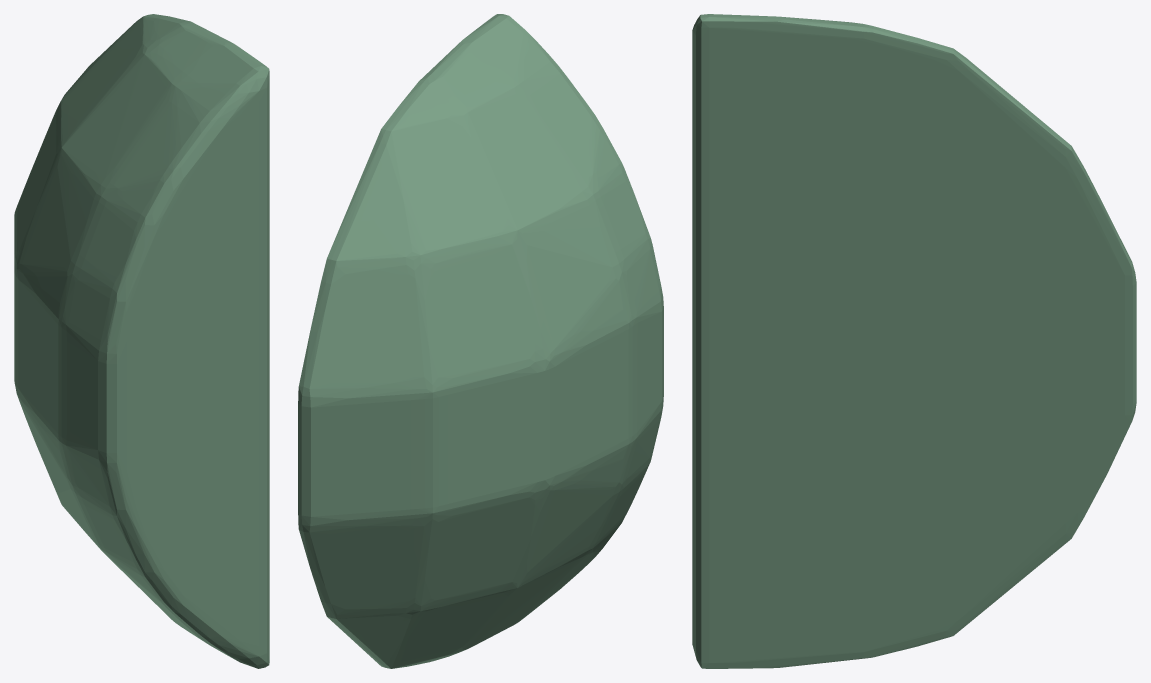
File: right_th_middle_part_0.obj
The picture shows the model from 3 angles, left to right: view 1: azimuth 30°, elevation 25°; view 2: azimuth 150°, elevation 25°; view 3: azimuth 270°, elevation 25°; orthographic projection. The views are drawn at different scales.
Bounding box in the file's own units: 5.74 × 19.11 × 11.83.
